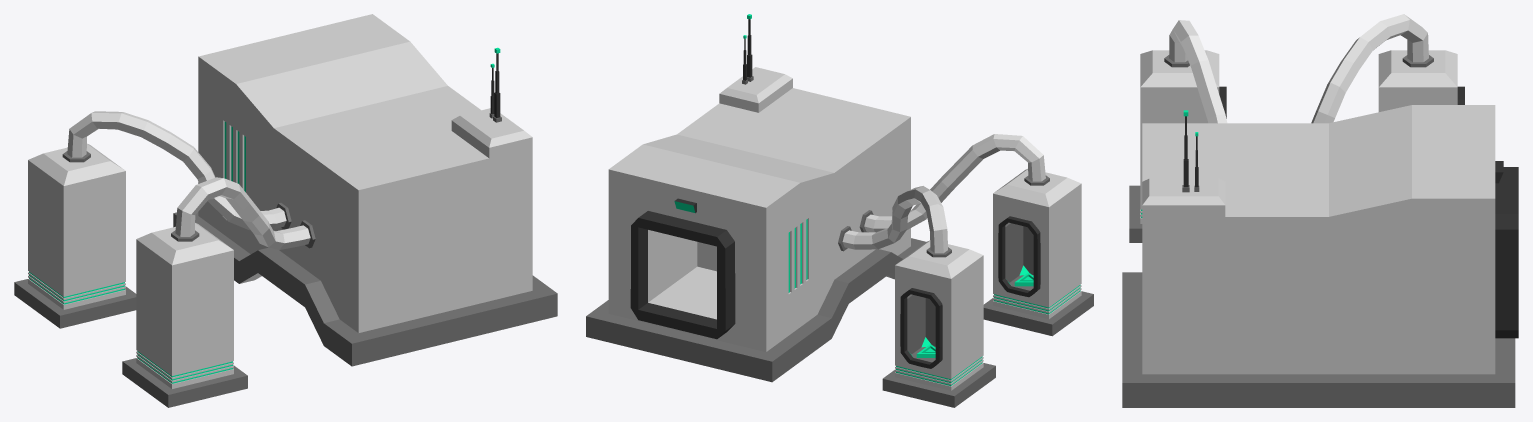
Rendered from Carbon_Factory.fbx.
3 views of the same model, side by side, from view 1: azimuth 30°, elevation 25°; view 2: azimuth 150°, elevation 25°; view 3: azimuth 270°, elevation 25° (orthographic). The views are drawn at different scales.
Parts seen in each view (by area): view 1: Carbon_Factory, Key_Item_Slot.005, Key_Item_Slot.004, Cable.003, Cable.004; view 2: Carbon_Factory, Key_Item_Slot.004, Key_Item_Slot.005, Cable.004, Cable.003; view 3: Carbon_Factory, Key_Item_Slot.005, Key_Item_Slot.004, Cable.003, Cable.004.
Part boxes in pixels (x1,y1,x2,y2): Carbon_Factory: (173,14,557,366); Key_Item_Slot.005: (122,223,247,407); Key_Item_Slot.004: (14,143,136,328); Cable.003: (67,111,286,230); Cable.004: (175,177,310,249); Carbon_Factory: (586,14,926,382); Key_Item_Slot.004: (882,240,995,407); Key_Item_Slot.005: (983,169,1093,336); Cable.004: (864,134,1045,232); Cable.003: (842,186,947,253); Carbon_Factory: (1122,105,1518,407); Key_Item_Slot.005: (1129,50,1226,242); Key_Item_Slot.004: (1378,50,1464,111); Cable.003: (1311,14,1428,123); Cable.004: (1169,20,1227,123).
Bounding box in the file's own units: 610 × 383 × 492.
